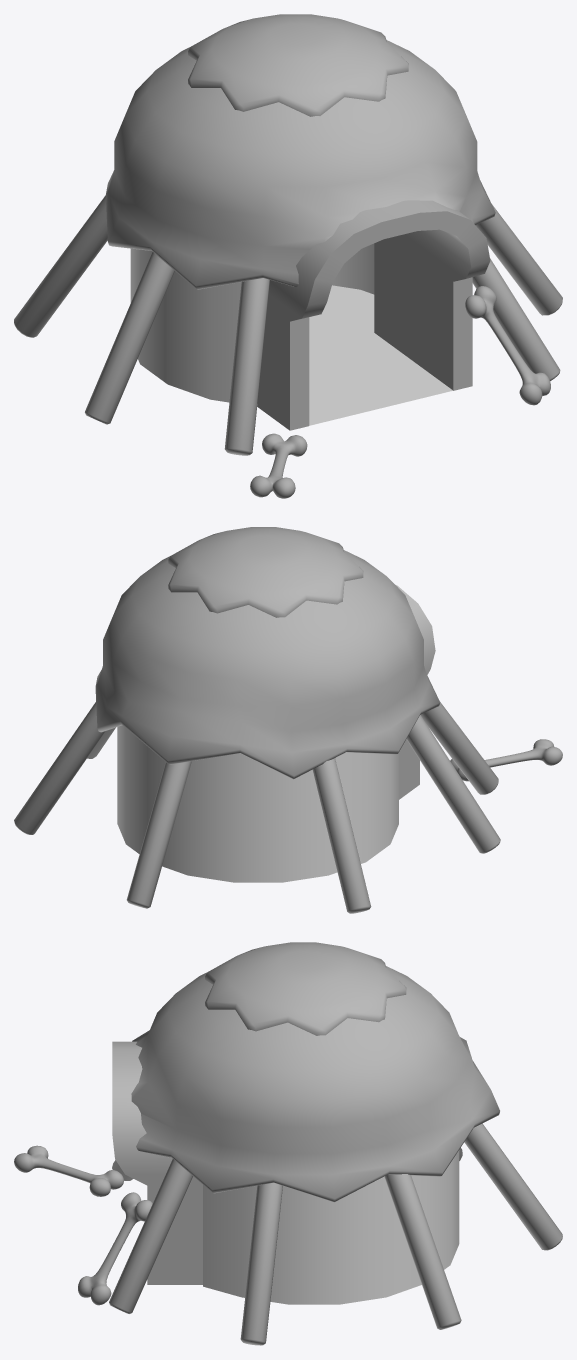
Rendered from GiantBarrack_lvl2.fbx.
3 renders of one model, top to bottom at view 1: azimuth 30°, elevation 25°; view 2: azimuth 150°, elevation 25°; view 3: azimuth 270°, elevation 25°, orthographic. The views are drawn at different scales.
Parts seen in each view (by area): view 1: Lvl2_GiantBarrack; view 2: Lvl2_GiantBarrack; view 3: Lvl2_GiantBarrack.
Part boxes in pixels (x1=…): Lvl2_GiantBarrack: x1=14, y1=14, x2=562, y2=498; Lvl2_GiantBarrack: x1=14, y1=527, x2=562, y2=913; Lvl2_GiantBarrack: x1=14, y1=942, x2=562, y2=1345.
Bounding box in the file's own units: 5.63 × 3.54 × 6.17.
